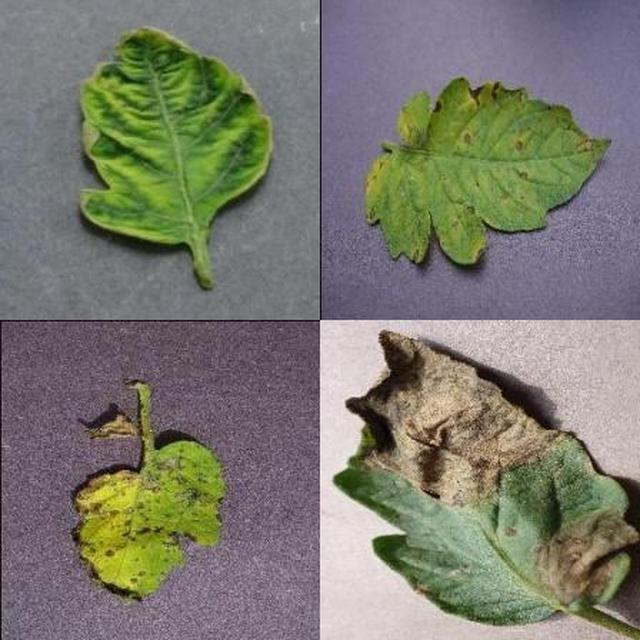Yellow Leaf Curl Virus: (210, 195, 640, 640)
